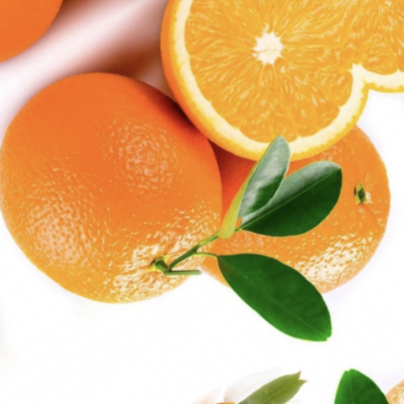orange: (0, 11, 292, 374), (113, 43, 404, 360)
